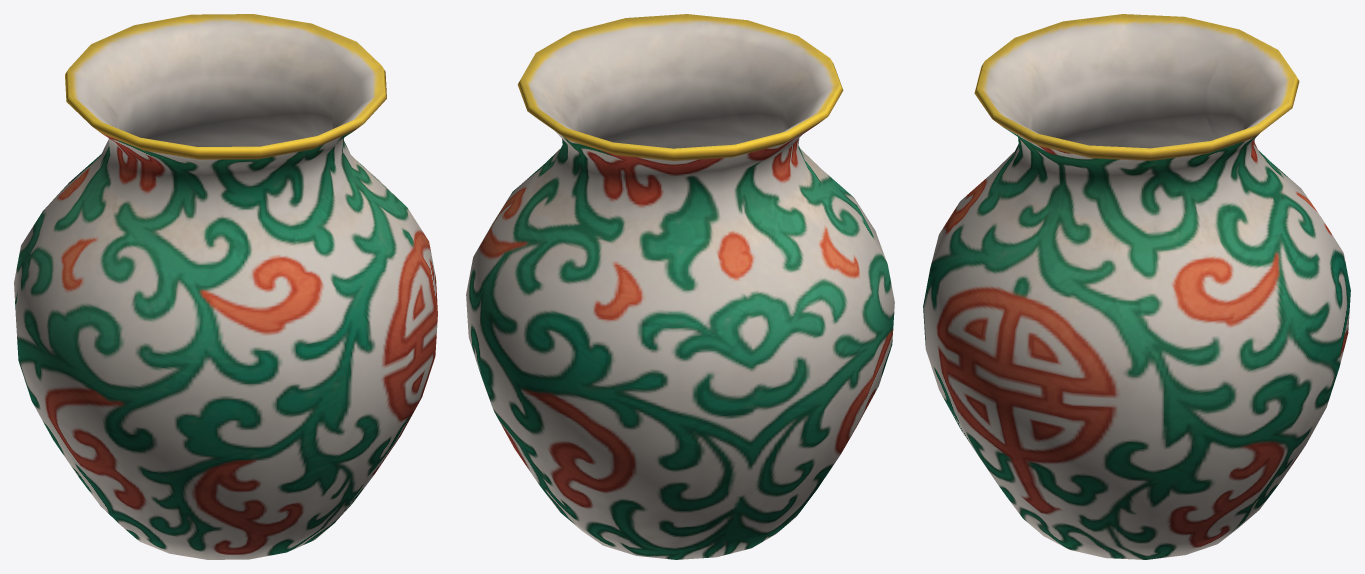
Rendered from SM_Vase2.glb.
The picture shows the model from 3 angles, left to right: view 1: azimuth 30°, elevation 25°; view 2: azimuth 150°, elevation 25°; view 3: azimuth 270°, elevation 25°; orthographic projection.
Parts seen in each view (by area): view 1: SM_Vase2_LOD0; view 2: SM_Vase2_LOD0; view 3: SM_Vase2_LOD0.
Boxes of the visible parts, box(x1,y1,x2,y2) form: SM_Vase2_LOD0: box(14, 14, 437, 559); SM_Vase2_LOD0: box(466, 14, 894, 559); SM_Vase2_LOD0: box(923, 14, 1350, 559).
Size of the model in its own units: 0.3581 by 0.4014 by 0.3581.
Materials: 1 (1 with a texture image).
